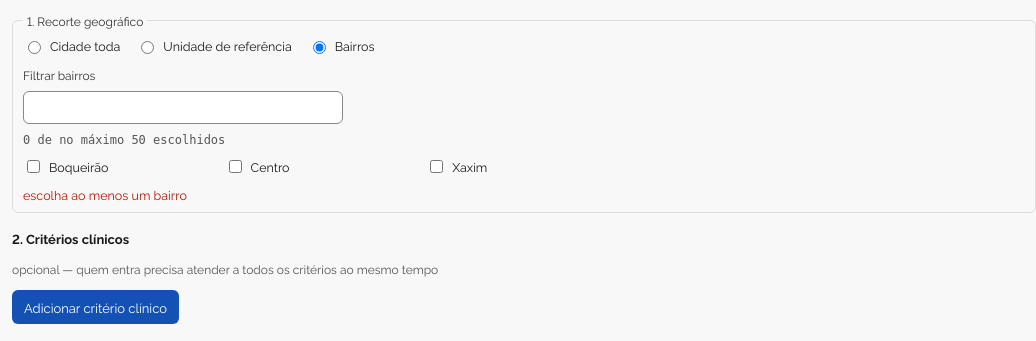
Test: AudienceBuilder — recorte › filtro de bairros ignora acento e maiúscula
The image size is (1036, 341).
Type "BOQUEIRAO" into the field labelled "Filtrar bairros". click: (183,107)
box: [23, 91, 343, 124]
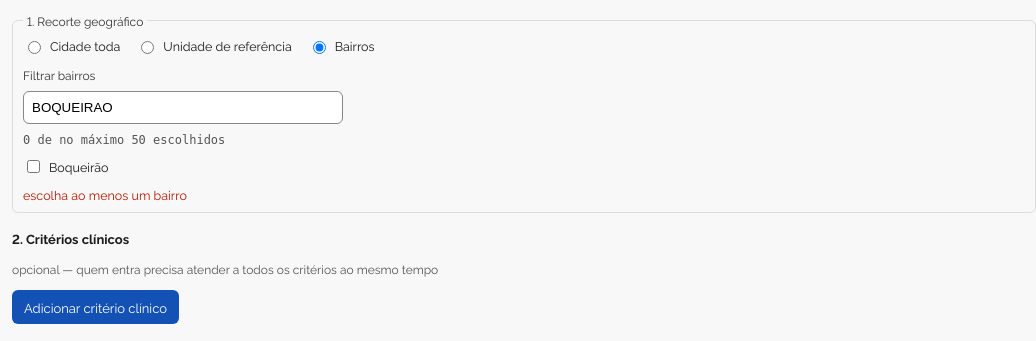
Check: the checkbox labelled "Boqueirão" is shown, box [27, 160, 40, 173]
Check: the label "Xaxim" is gone
